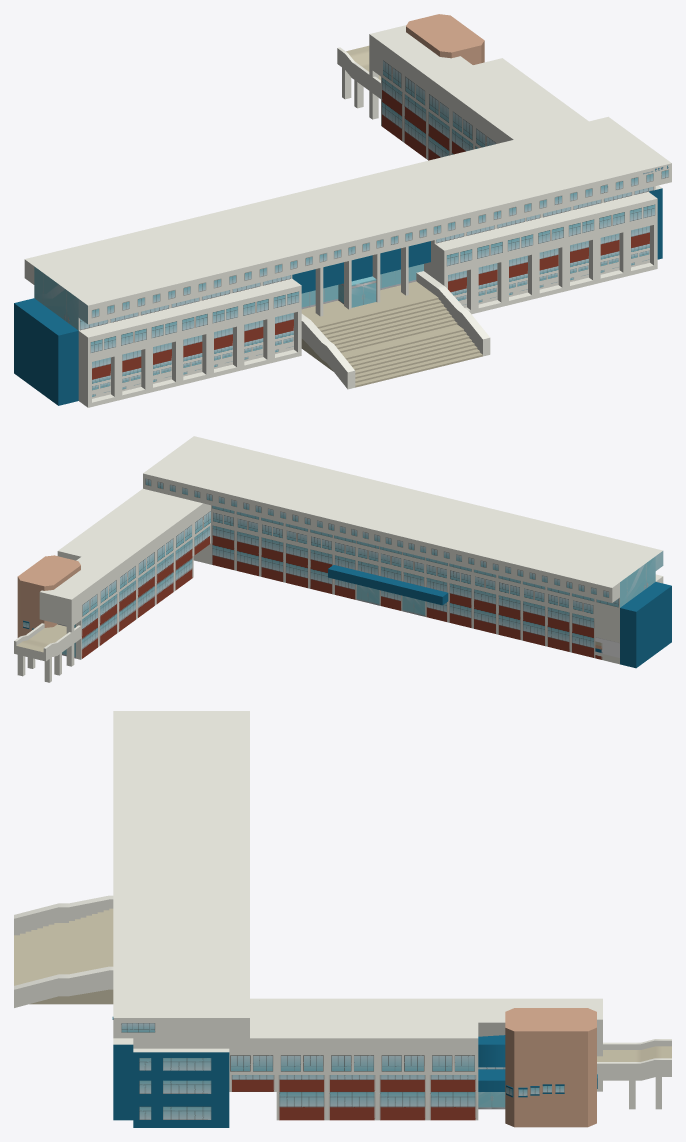
The model's file is building_woncheon.glb.
The picture shows the model from 3 angles, top to bottom: view 1: azimuth 30°, elevation 25°; view 2: azimuth 150°, elevation 25°; view 3: azimuth 270°, elevation 25°; orthographic projection. The views are drawn at different scales.
Bounding box in the file's own units: 4.92 × 0.7957 × 4.31.
Materials: 1 (1 with a texture image).
